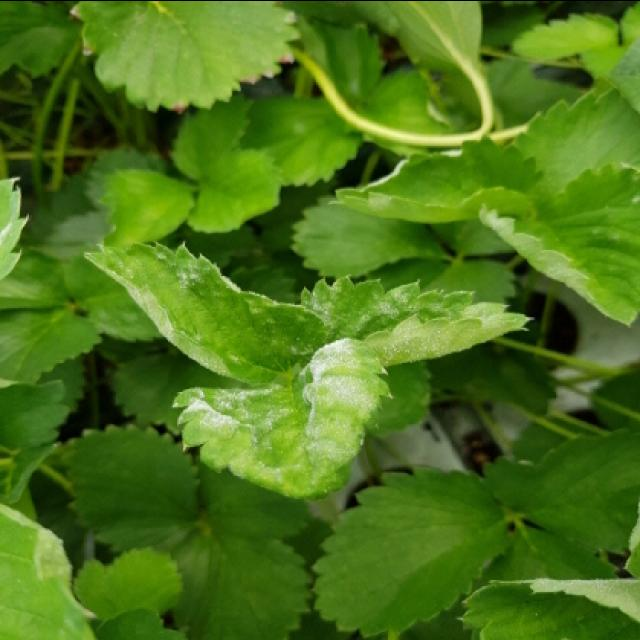Powdery Mildew Leaf: (82, 237, 351, 386), (171, 336, 392, 501), (298, 273, 533, 367), (456, 577, 638, 638)
